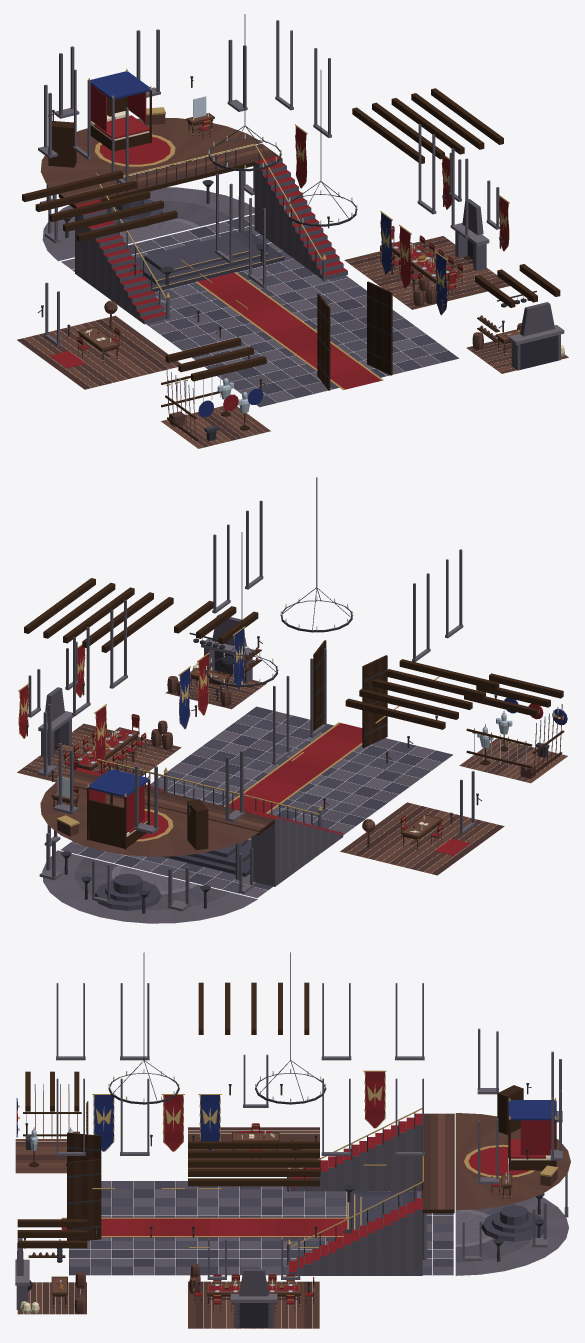
Rendered from castle_rooms.glb.
The picture shows the model from 3 angles, top to bottom: view 1: azimuth 30°, elevation 25°; view 2: azimuth 150°, elevation 25°; view 3: azimuth 270°, elevation 25°; orthographic projection. The views are drawn at different scales.
Parts seen in each view (by area): view 1: castle_rooms; view 2: castle_rooms; view 3: castle_rooms.
Part boxes in pixels (x1,y1,x2,y2): castle_rooms: (17,14,568,448); castle_rooms: (17,477,567,923); castle_rooms: (15,952,570,1328).
Size of the model in its own units: 26.2 by 16.59 by 30.4.
1 material, 1 textured.
